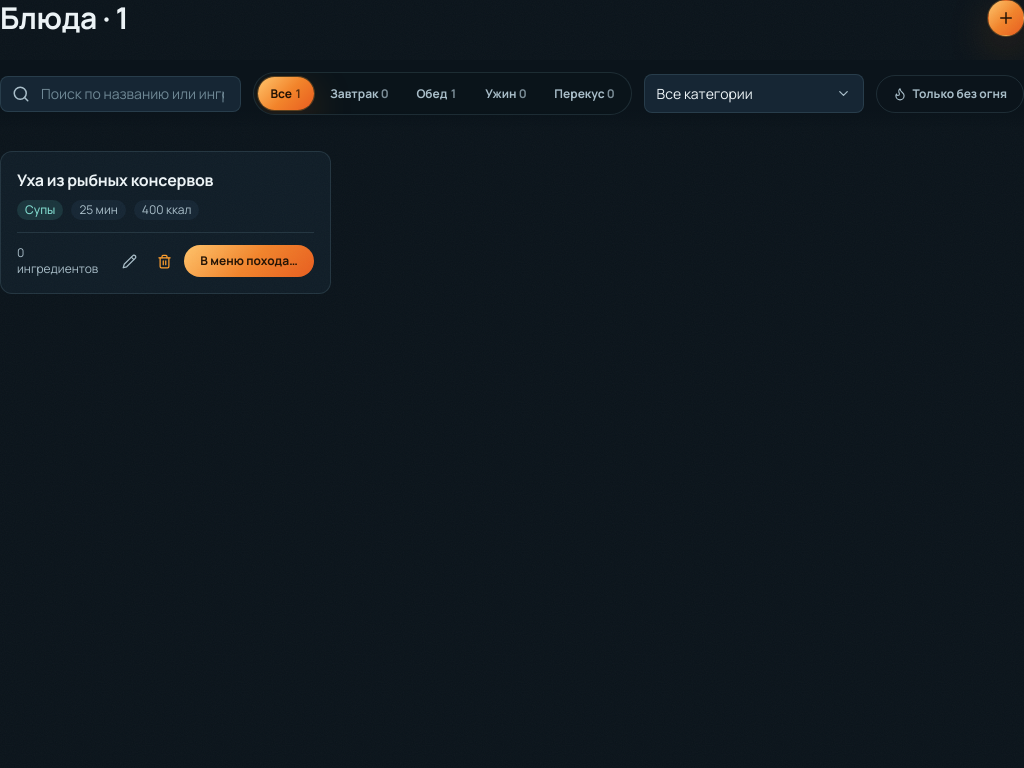
Test: RecipesPage — админ-режим каталога › кнопка создания открывает редактор
The image size is (1024, 768).
Click the button named "Создать блюдо": (1006, 18) [988,0,1023,36]
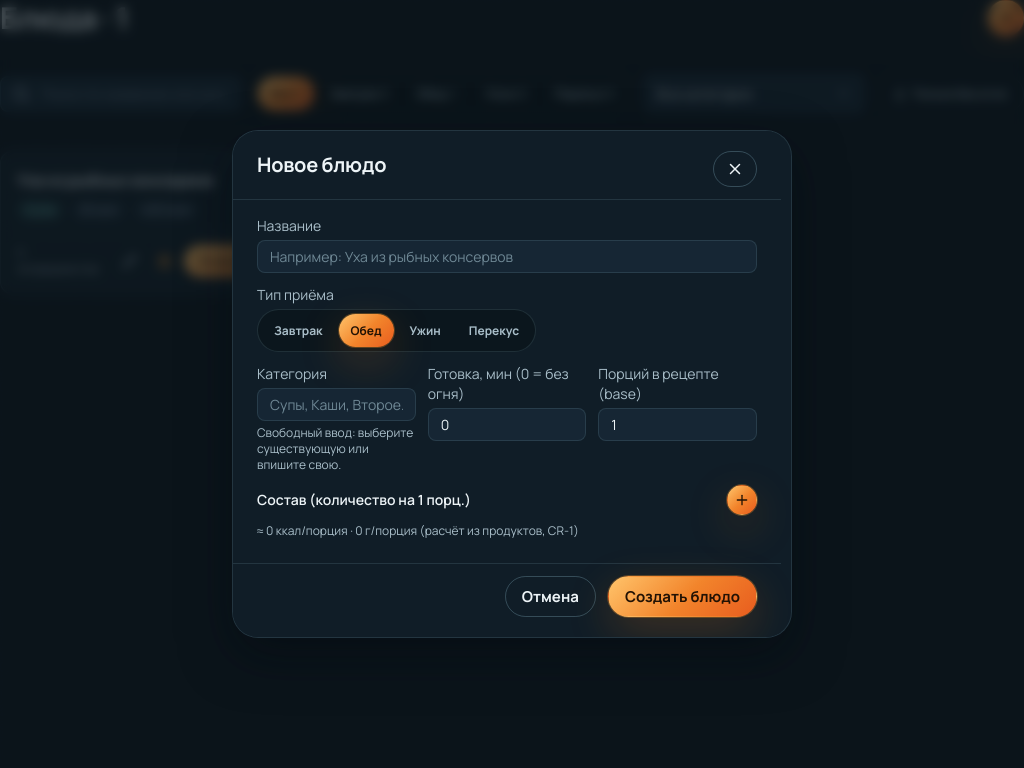
Check: the field labelled "Название" is shown, box [257,240,757,273]
